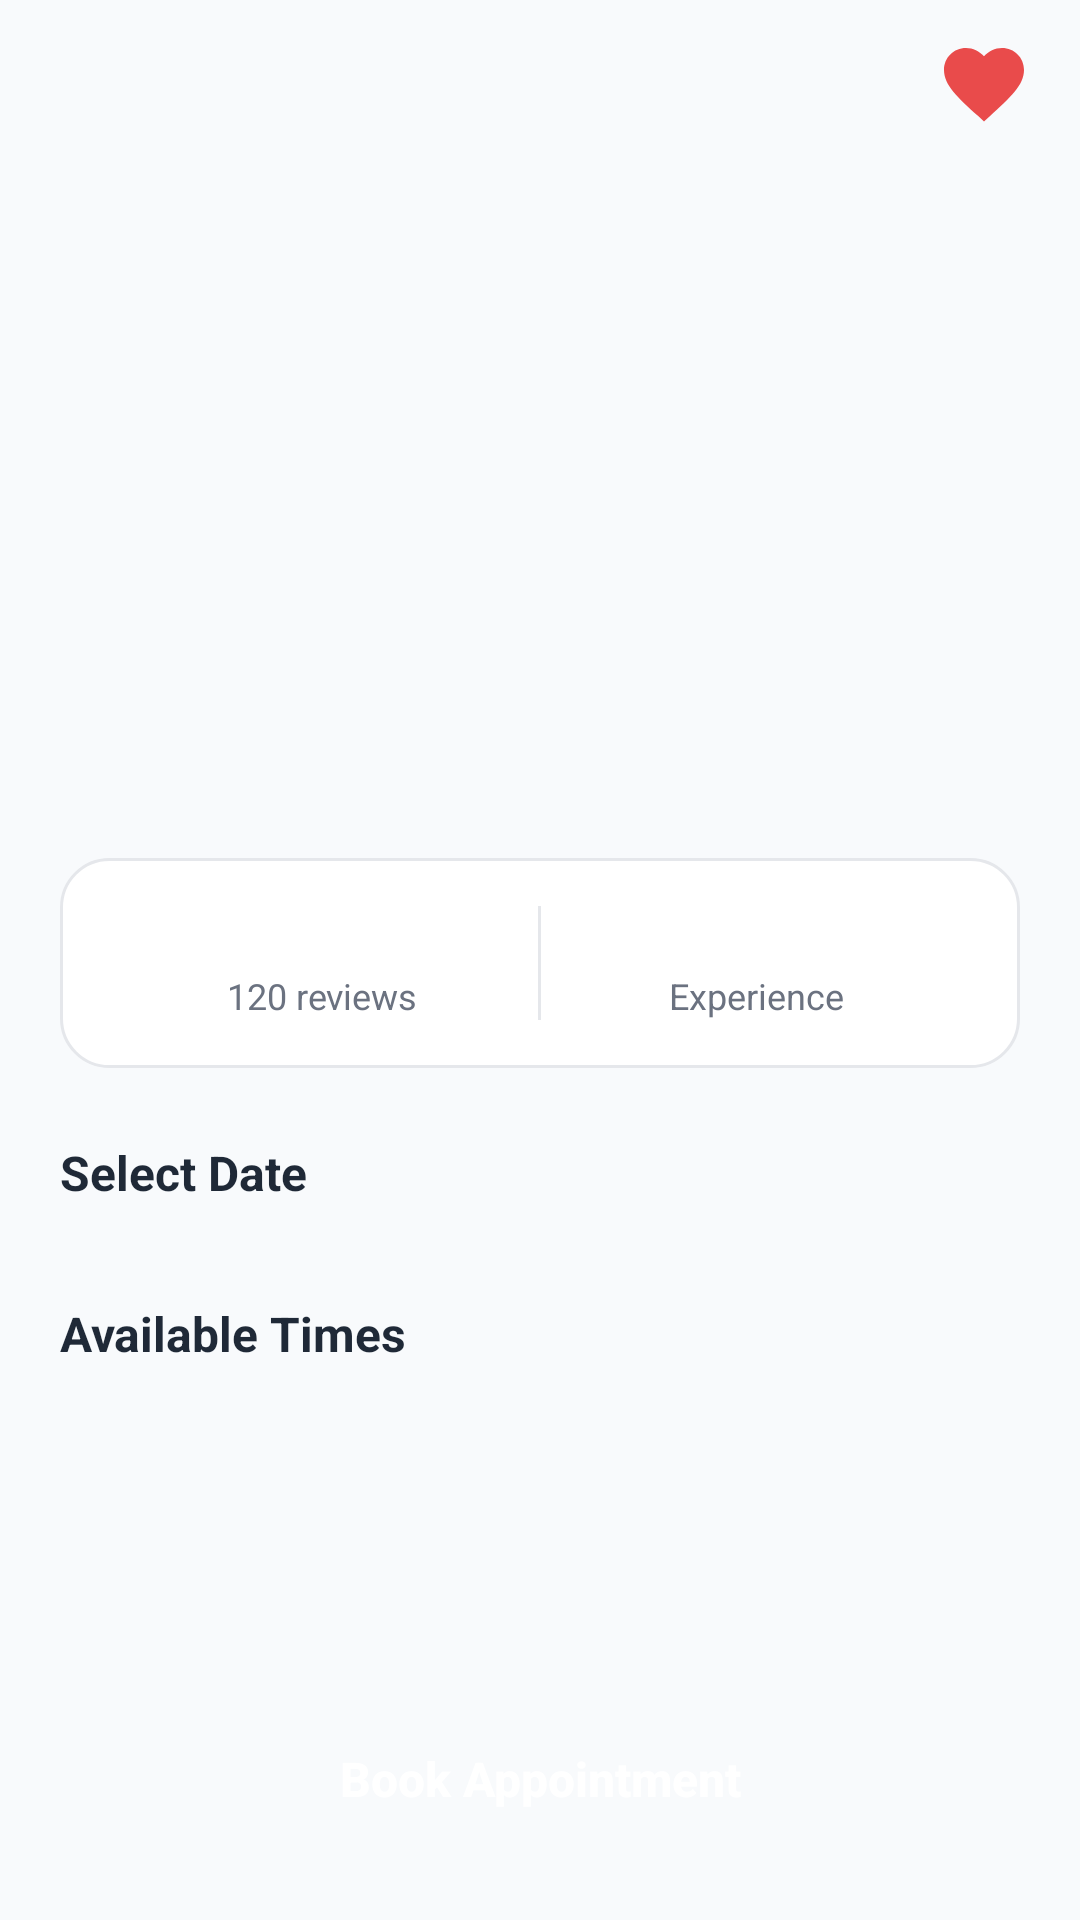

Screen size 1080x1920. Icon name, then its box in pixels as (x1, y1, x2, y2):
favorite: (944, 48, 1024, 121)
